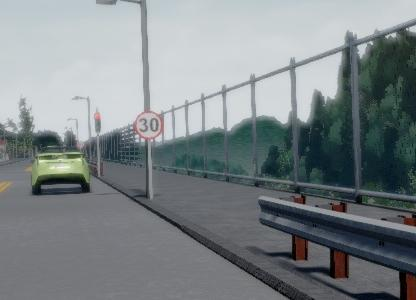Speed_30: (132, 108, 165, 142)
